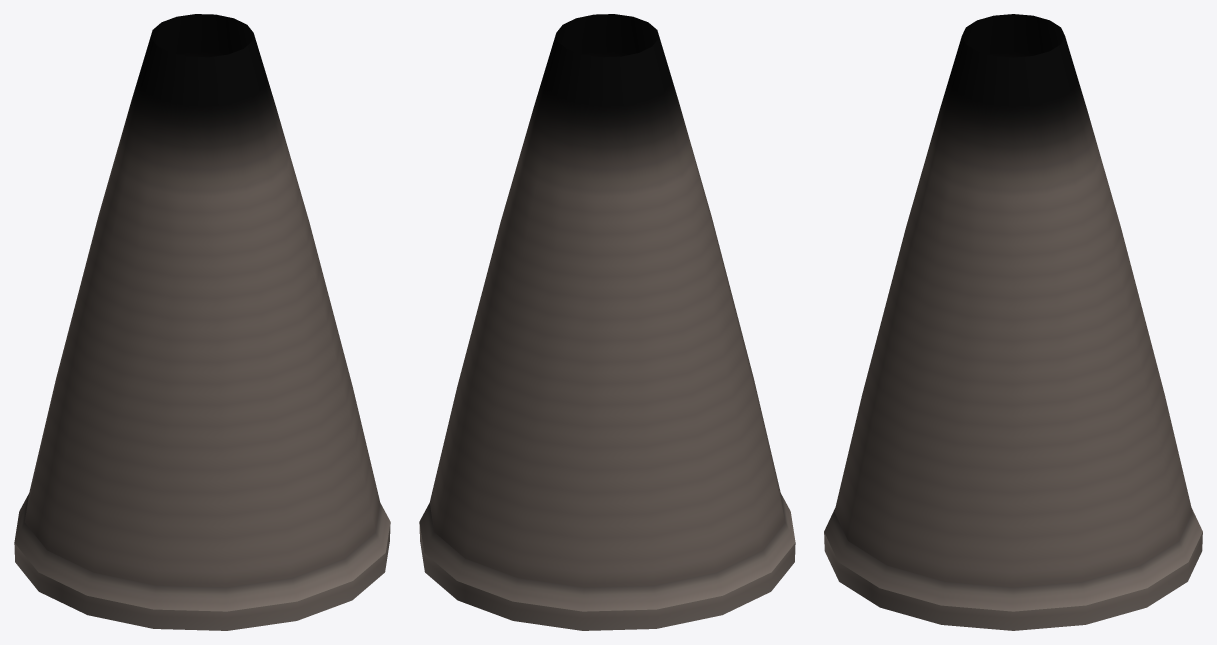
The model's file is Knight_Motor_C_Nozzle.obj.
3 renders of one model, left to right at view 1: azimuth 30°, elevation 25°; view 2: azimuth 150°, elevation 25°; view 3: azimuth 270°, elevation 25°, orthographic.
Parts seen in each view (by area): view 1: Knight_Motor_C_Nozzle; view 2: Knight_Motor_C_Nozzle; view 3: Knight_Motor_C_Nozzle.
Part boxes in pixels (bbox=[...]): Knight_Motor_C_Nozzle: bbox=[14, 14, 390, 630]; Knight_Motor_C_Nozzle: bbox=[419, 14, 795, 630]; Knight_Motor_C_Nozzle: bbox=[824, 14, 1202, 630].
Bounding box in the file's own units: 0.2798 × 0.42 × 0.2798.
